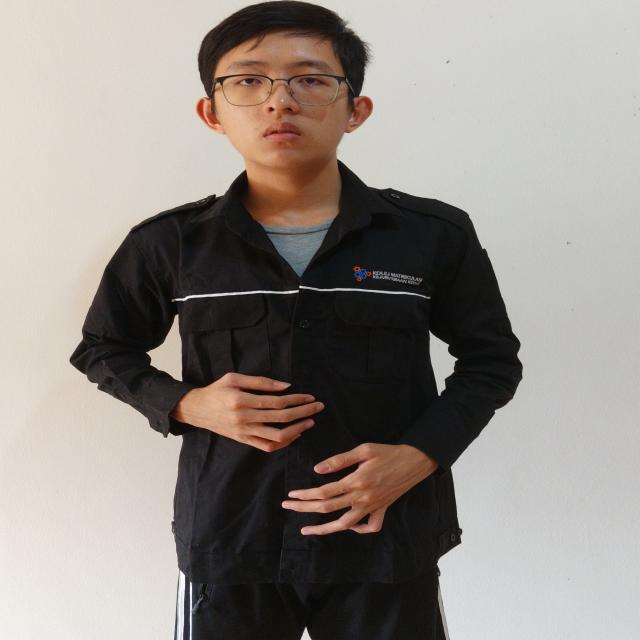person_with_labcoat: (71, 0, 521, 640)
